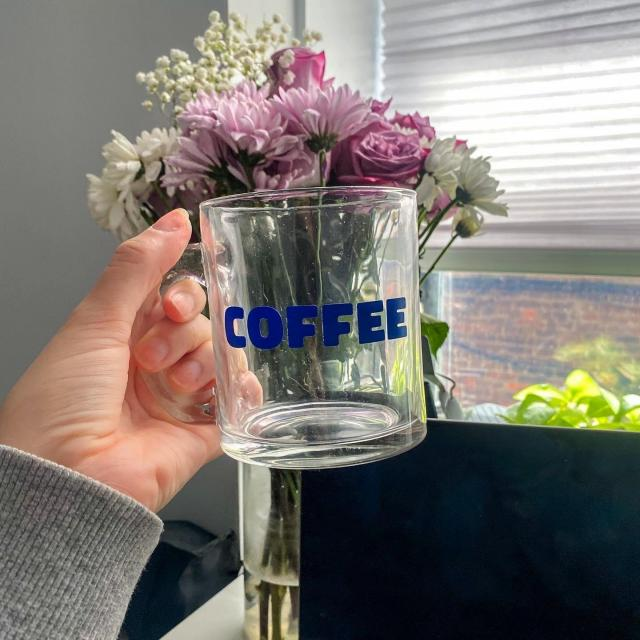glass-mug: (137, 178, 433, 477)
